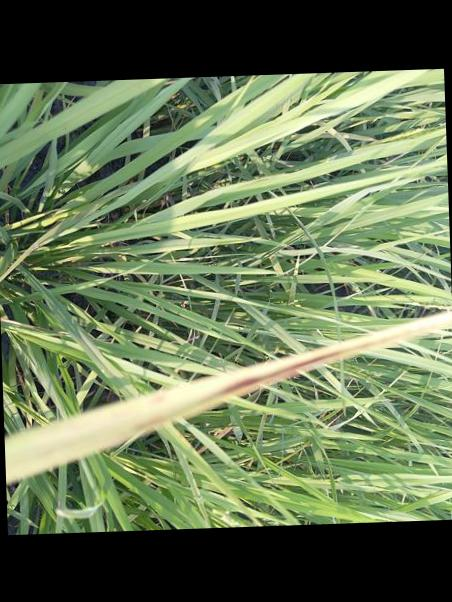Leaf Blight: (4, 306, 452, 486)
